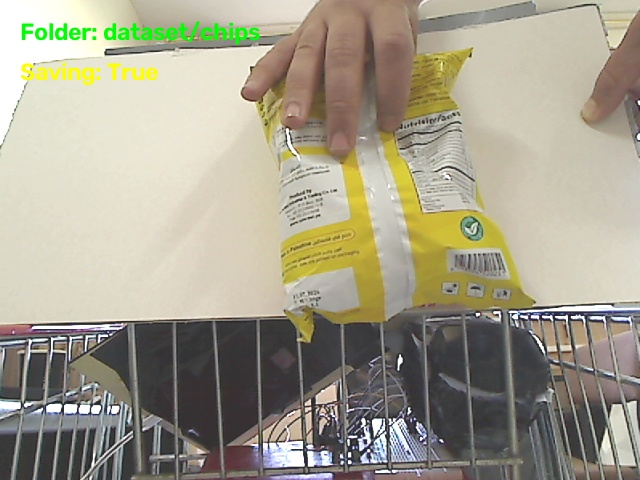chips: (258, 49, 532, 340)
